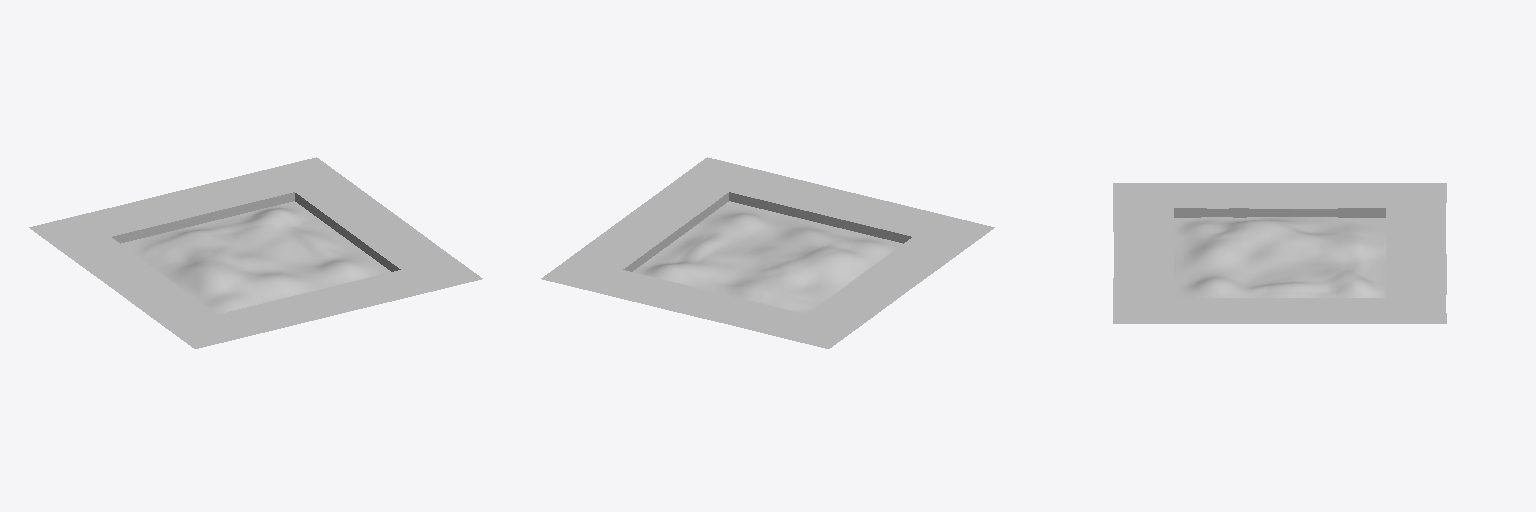
File: map.obj
3 renders of one model, left to right at view 1: azimuth 30°, elevation 25°; view 2: azimuth 150°, elevation 25°; view 3: azimuth 270°, elevation 25°, orthographic.
Parts seen in each view (by area): view 1: Plane; view 2: Plane; view 3: Plane.
Part boxes in pixels (bbox=[...]): Plane: bbox=[29, 157, 482, 348]; Plane: bbox=[541, 157, 994, 348]; Plane: bbox=[1113, 183, 1446, 323].
Bounding box in the file's own units: 951 × 40.01 × 951.